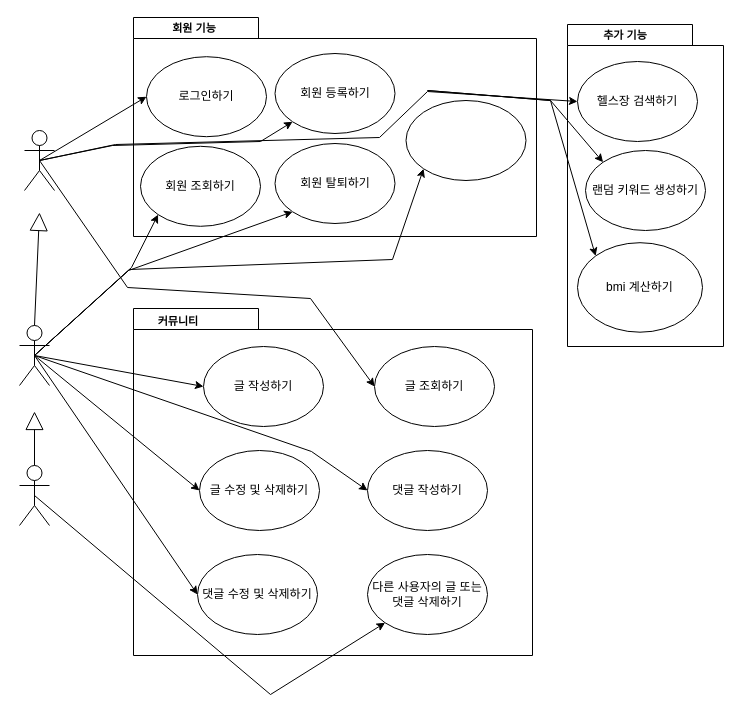
Some shapes in this 741 by 720 pixel diagram are drawn without their labels. Here are the shapes that lost their labels. From the top down, the centre of each, then its label:
At point 39,160: "사용자".
At point 465,140: "회원 정보 수정하기".
At point 34,355: "회원".
At point 34,495: "운영자".
